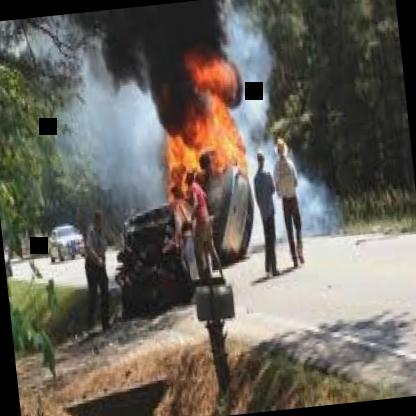fire: (160, 48, 238, 170)
